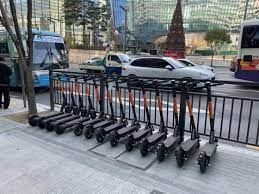kick_handler: (196, 81, 224, 88)
kick_neck: (207, 91, 214, 136)
kick_wheel: (198, 151, 208, 172), (175, 147, 185, 167), (125, 134, 134, 152), (156, 143, 165, 160), (95, 128, 105, 142), (140, 138, 147, 154), (109, 131, 117, 145), (85, 126, 93, 139), (74, 124, 82, 136), (29, 115, 38, 125), (57, 124, 64, 133)
